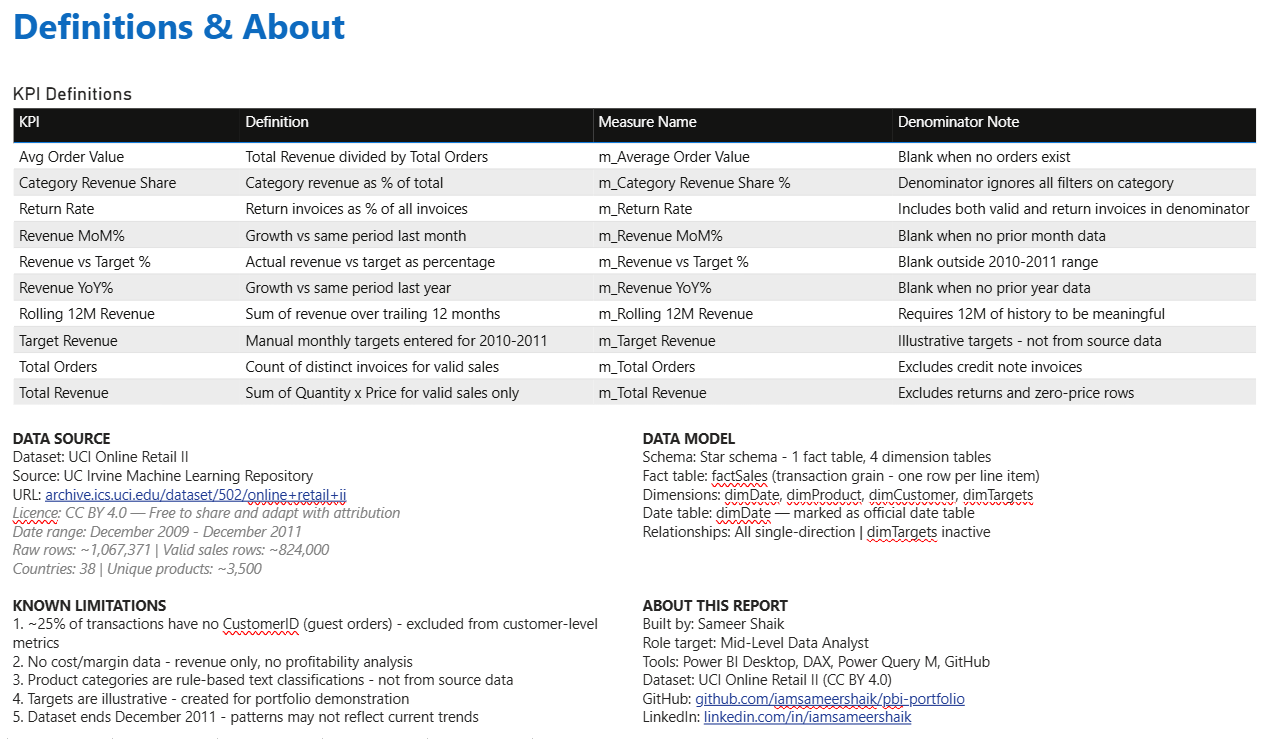

The page's visual inventory and layout, read from the dashboard file:
{"tool":"powerbi","page":{"name":"Definitions & About","canvas":[1280,720],"ordinal":4},"visuals":[{"type":"textbox","box":[96,432,400,128],"z":0},{"type":"textbox","box":[496,432,368,128],"z":1000},{"type":"textbox","box":[96,560,768,144],"z":2000},{"type":"textbox","box":[864,560,384,144],"z":3000},{"type":"textbox","box":[864,432,384,128],"z":4000},{"type":"tableEx","title":"KPI Definitions","fields":{"Values":["_P2_Definitions.KPI","_P2_Definitions.Definition","_P2_Definitions.Measure Name","_P2_Definitions.Denominator Note"]},"box":[96,64,1152,368],"z":5000},{"type":"textbox","box":[96,0,1152,64],"z":5001}]}

Visuals, with their boxes on the page's 1280x720 design canvas (x1, y1, x2, y2). These are canvas units, not pixel positions in the 1261x743 screenshot, which may show the page scaled, cropped or inside an application window:
textbox: rect(96, 432, 496, 560)
textbox: rect(496, 432, 864, 560)
textbox: rect(96, 560, 864, 704)
textbox: rect(864, 560, 1248, 704)
textbox: rect(864, 432, 1248, 560)
"KPI Definitions" tableEx: rect(96, 64, 1248, 432)
textbox: rect(96, 0, 1248, 64)
